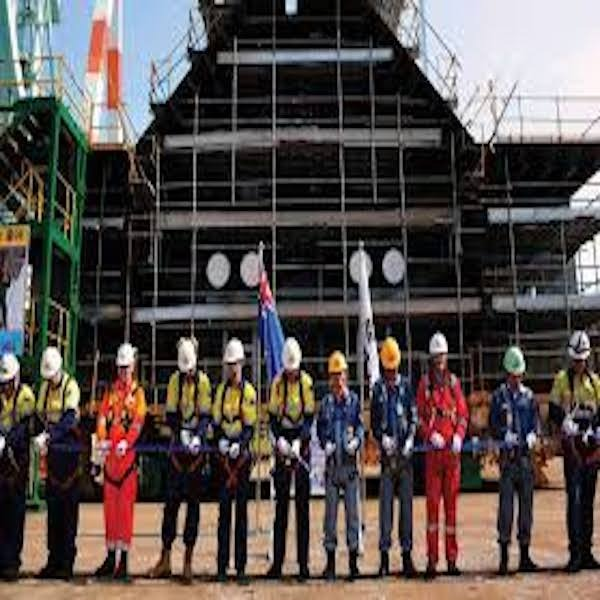helmet: (280, 336, 309, 371), (567, 330, 596, 364), (376, 334, 404, 369), (502, 344, 532, 373), (174, 341, 201, 372), (39, 344, 63, 376), (429, 328, 449, 359), (326, 348, 349, 374), (223, 339, 245, 366), (117, 341, 137, 369)
vest: (268, 370, 315, 473), (490, 382, 541, 468), (212, 377, 261, 464), (418, 368, 466, 455), (40, 382, 81, 459)
